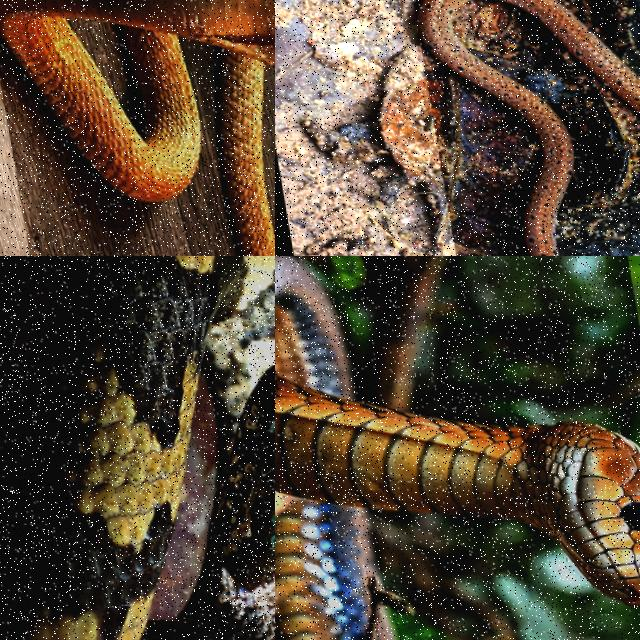Calliophis maculiceps: (417, 0, 573, 255)
Naja kaouthia: (0, 0, 274, 255)
Naja siamensis: (275, 256, 639, 639)
Ovophis monticola: (0, 256, 274, 639)
